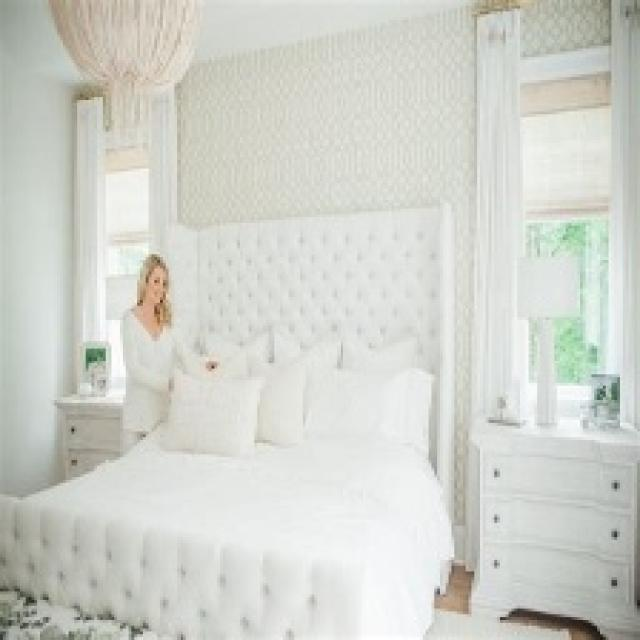Bed: (0, 200, 457, 637)
